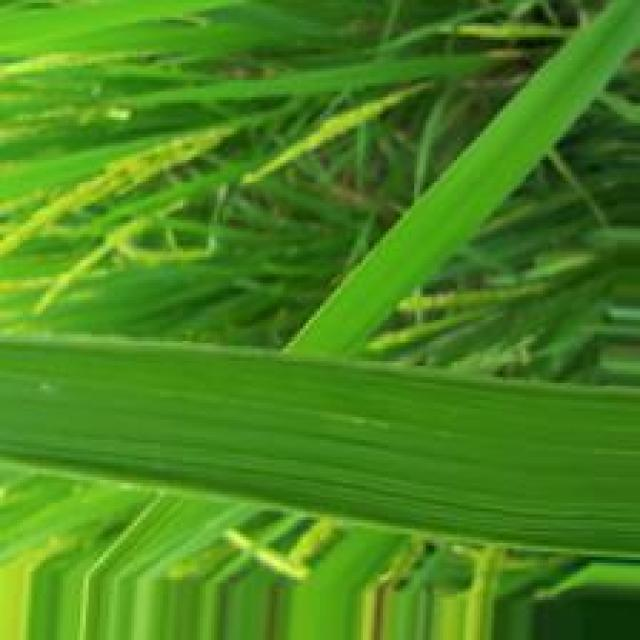HealthyLeaf: (84, 0, 640, 638), (0, 335, 640, 561)
